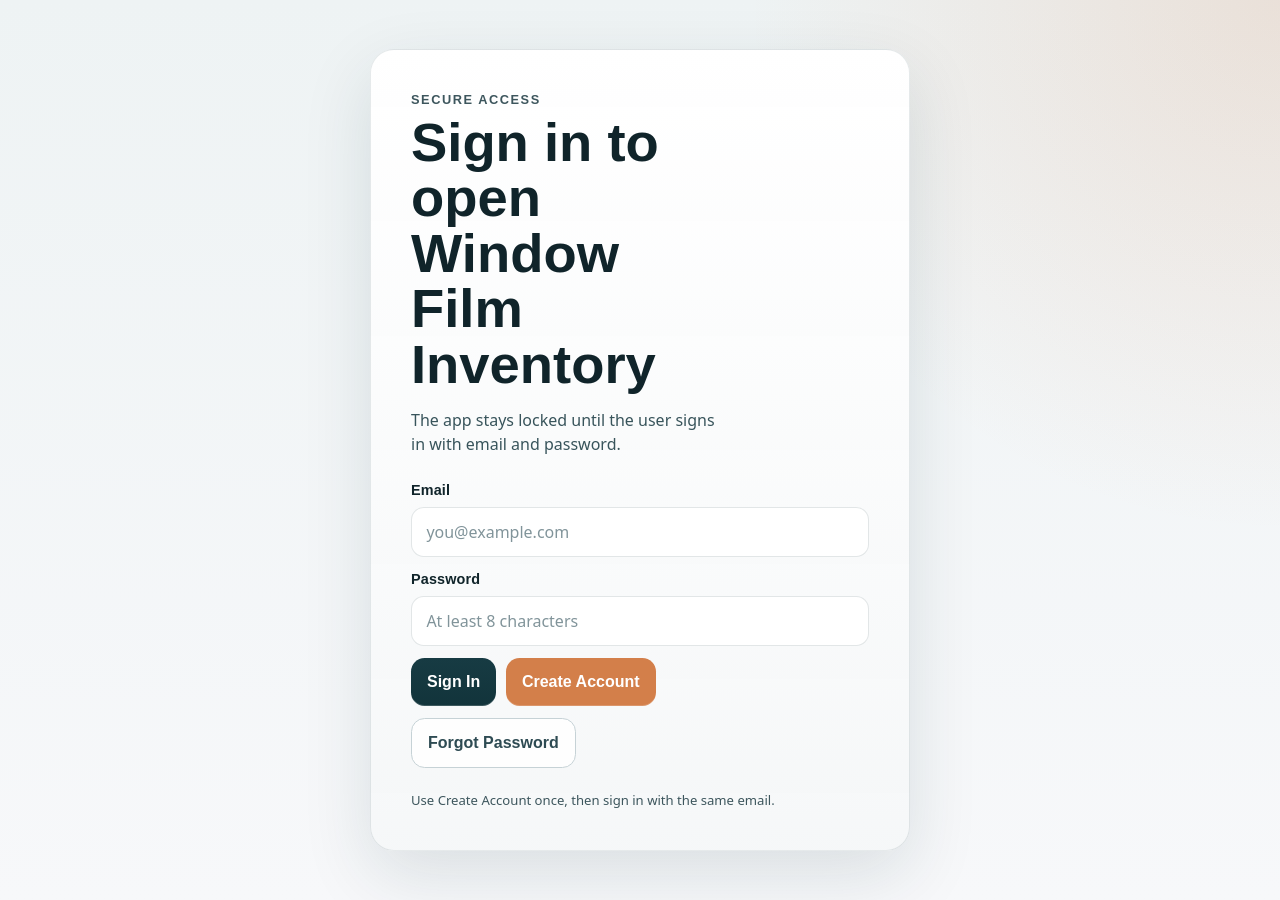
it: AuthGate › opens the forgot password modal and shows the email-sent confirmation
Step 1. Click the button "Forgot Password" → (493, 743), box x1=411 y1=718 x2=576 y2=768
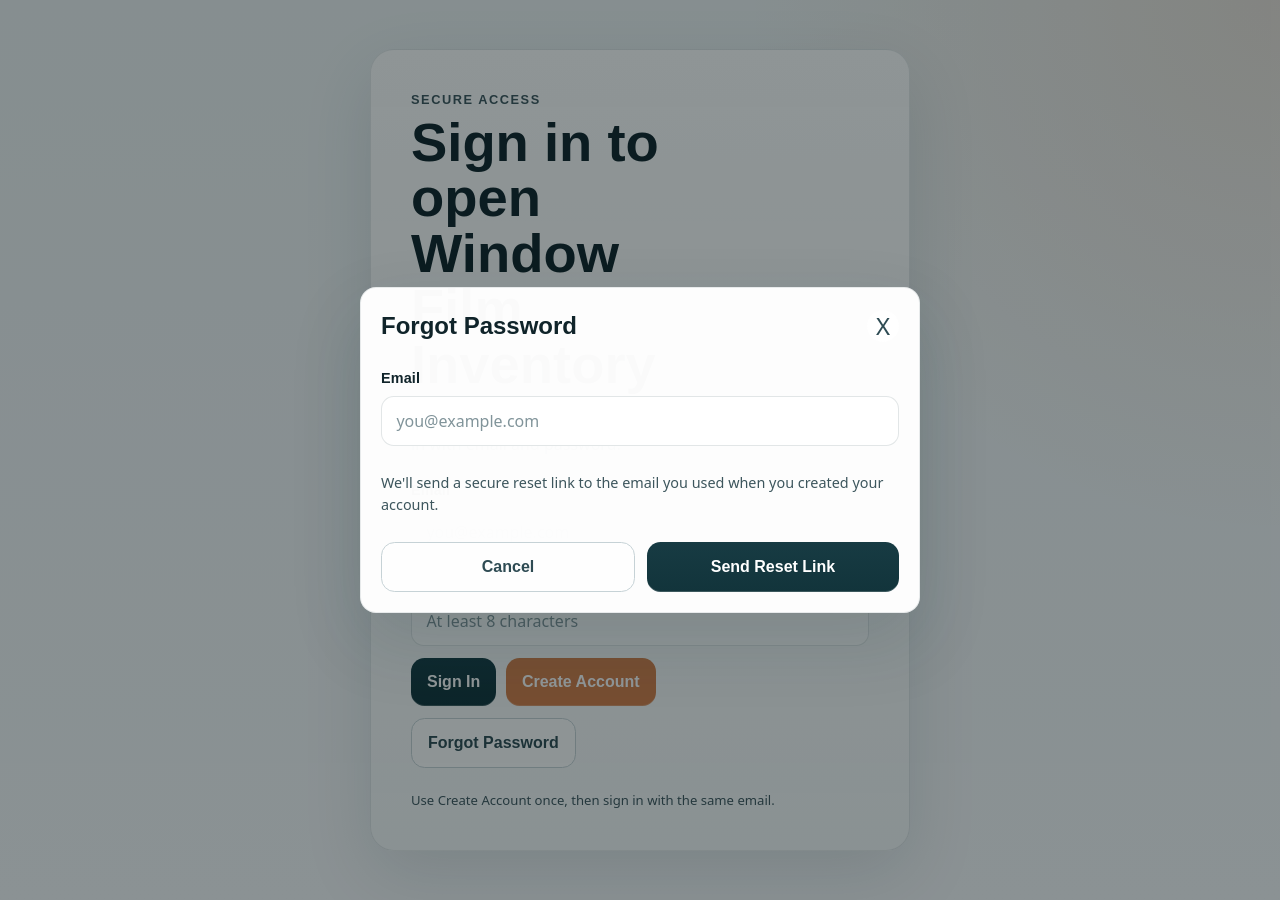
Step 2. Type "user@example.com" into the field labelled "Email" → (640, 421), box x1=381 y1=396 x2=899 y2=446
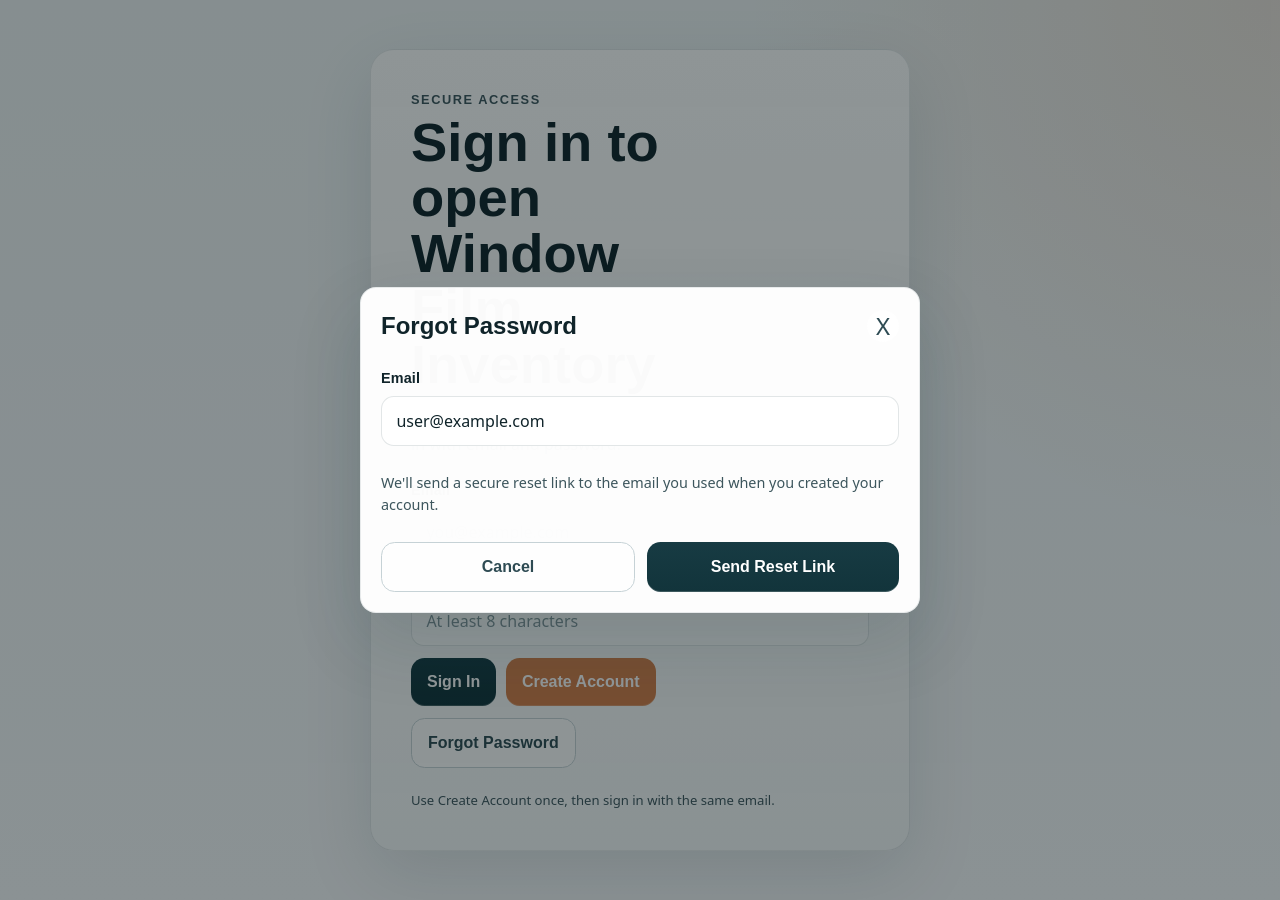
Step 3. Submit the form named "Send Reset Link", box x1=381 y1=368 x2=899 y2=592
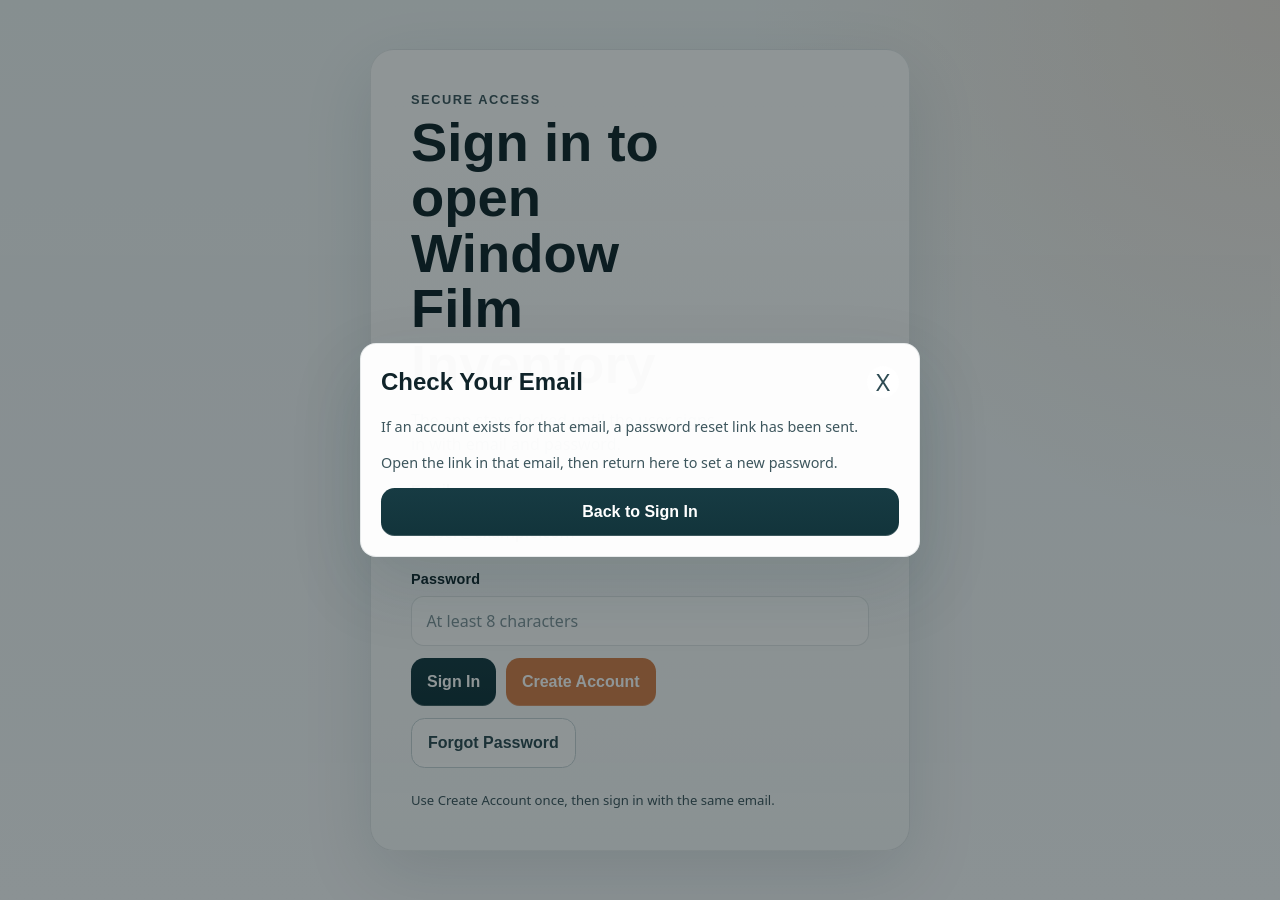
Now the heading "Check Your Email" is shown, box x1=381 y1=364 x2=583 y2=400
Now the text "If an account exists for that email, a password reset link has been sent." is shown, box x1=381 y1=416 x2=899 y2=438
